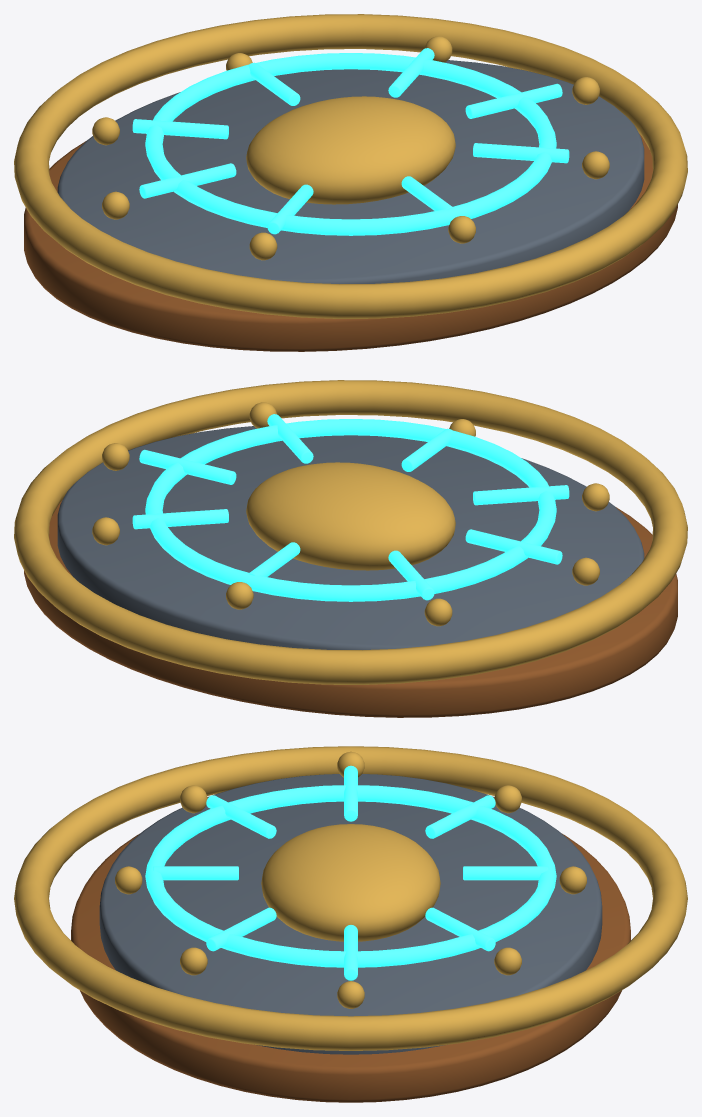
Rendered from ancient_rune_shield.glb.
3 views of the same model, one above another, from view 1: azimuth 30°, elevation 25°; view 2: azimuth 150°, elevation 25°; view 3: azimuth 270°, elevation 25° (orthographic).
Visible parts, largest first — view 1: RuneShield_SteelFace, RuneShield_OuterRim, RuneShield_WoodCore, RuneShield_CentreBoss, RuneShield_RuneCircle, RuneShield_RuneRay_1, RuneShield_RuneRay_5, RuneShield_RuneRay_4, RuneShield_RuneRay_8, RuneShield_RuneRay_3, RuneShield_RuneRay_2, RuneShield_RuneRay_6 (+8 smaller); view 2: RuneShield_SteelFace, RuneShield_OuterRim, RuneShield_WoodCore, RuneShield_CentreBoss, RuneShield_RuneCircle, RuneShield_RuneRay_1, RuneShield_RuneRay_5, RuneShield_RuneRay_6, RuneShield_RuneRay_2, RuneShield_RuneRay_7, RuneShield_RuneRay_8, RuneShield_RuneRay_4 (+8 smaller); view 3: RuneShield_SteelFace, RuneShield_OuterRim, RuneShield_WoodCore, RuneShield_CentreBoss, RuneShield_RuneCircle, RuneShield_RuneRay_3, RuneShield_RuneRay_7, RuneShield_RuneRay_2, RuneShield_RuneRay_4, RuneShield_RuneRay_6, RuneShield_RuneRay_8, RuneShield_RuneRay_1 (+8 smaller).
Part boxes in pixels (<box>): RuneShield_SteelFace: <box>57,60,644,283</box>; RuneShield_OuterRim: <box>14,14,687,318</box>; RuneShield_WoodCore: <box>24,133,677,351</box>; RuneShield_CentreBoss: <box>246,96,455,204</box>; RuneShield_RuneCircle: <box>145,53,556,235</box>; RuneShield_RuneRay_1: <box>465,83,562,118</box>; RuneShield_RuneRay_5: <box>139,163,236,198</box>; RuneShield_RuneRay_4: <box>132,119,228,139</box>; RuneShield_RuneRay_8: <box>473,143,569,163</box>; RuneShield_RuneRay_3: <box>248,62,300,105</box>; RuneShield_RuneRay_2: <box>388,48,434,97</box>; RuneShield_RuneRay_6: <box>267,184,313,234</box>; RuneShield_SteelFace: <box>57,426,644,649</box>; RuneShield_OuterRim: <box>14,380,687,684</box>; RuneShield_WoodCore: <box>24,499,677,717</box>; RuneShield_CentreBoss: <box>246,462,455,570</box>; RuneShield_RuneCircle: <box>145,419,556,601</box>; RuneShield_RuneRay_1: <box>139,449,236,484</box>; RuneShield_RuneRay_5: <box>465,529,562,564</box>; RuneShield_RuneRay_6: <box>473,485,569,505</box>; RuneShield_RuneRay_2: <box>132,509,228,529</box>; RuneShield_RuneRay_7: <box>401,428,453,471</box>; RuneShield_RuneRay_8: <box>267,414,313,463</box>; RuneShield_RuneRay_4: <box>388,550,434,600</box>; RuneShield_SteelFace: <box>99,774,602,1054</box>; RuneShield_OuterRim: <box>14,746,687,1050</box>; RuneShield_WoodCore: <box>71,833,630,1102</box>; RuneShield_CentreBoss: <box>261,824,440,941</box>; RuneShield_RuneCircle: <box>145,785,556,967</box>; RuneShield_RuneRay_3: <box>463,866,548,880</box>; RuneShield_RuneRay_7: <box>153,866,238,880</box>; RuneShield_RuneRay_2: <box>425,907,495,951</box>; RuneShield_RuneRay_4: <box>425,795,495,838</box>; RuneShield_RuneRay_6: <box>206,795,276,838</box>; RuneShield_RuneRay_8: <box>206,907,276,951</box>; RuneShield_RuneRay_1: <box>344,925,357,980</box>.
Bounding box in the file's own units: 0.78 × 0.2025 × 0.77.
